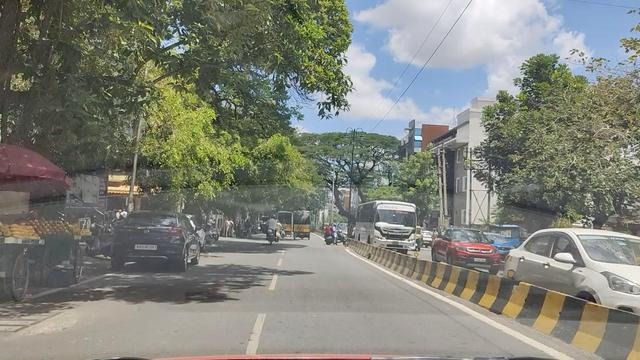LMV: (111, 208, 190, 272), (262, 212, 287, 246)
